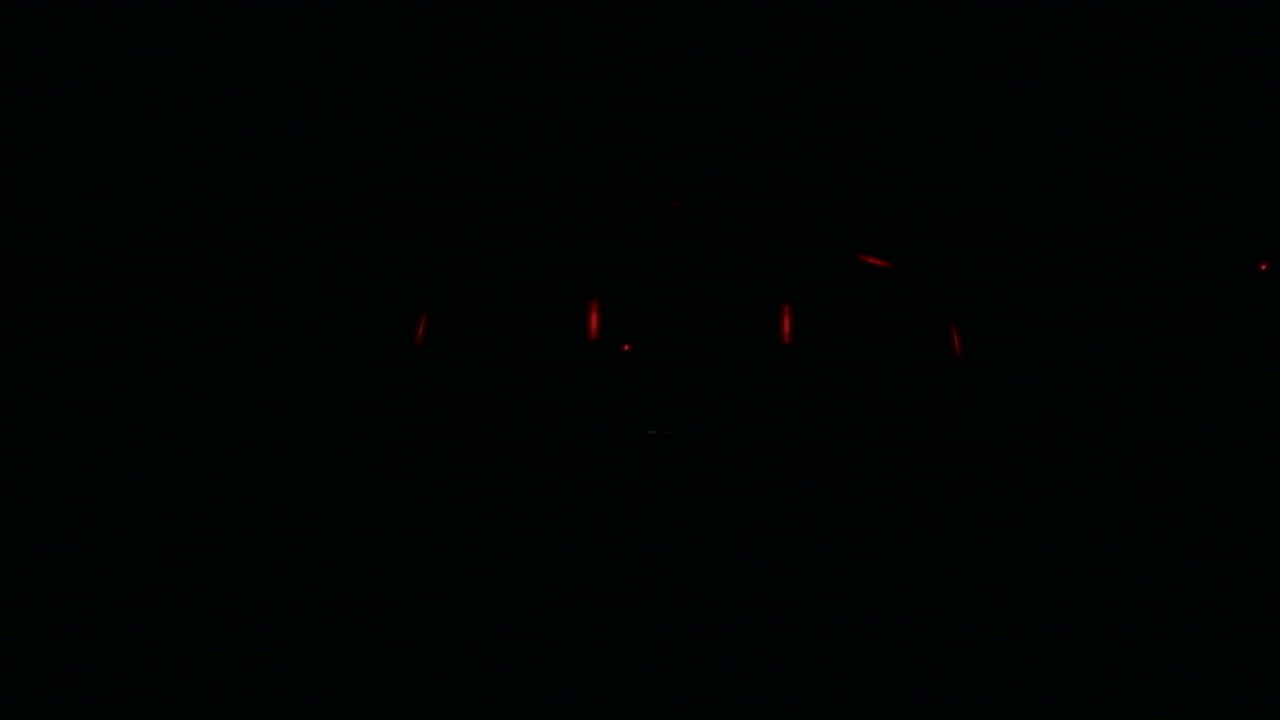lamp: (586, 294, 604, 346), (779, 295, 789, 352), (411, 313, 426, 348)
notpair2: (413, 295, 609, 348)
pair2: (586, 295, 795, 351)
